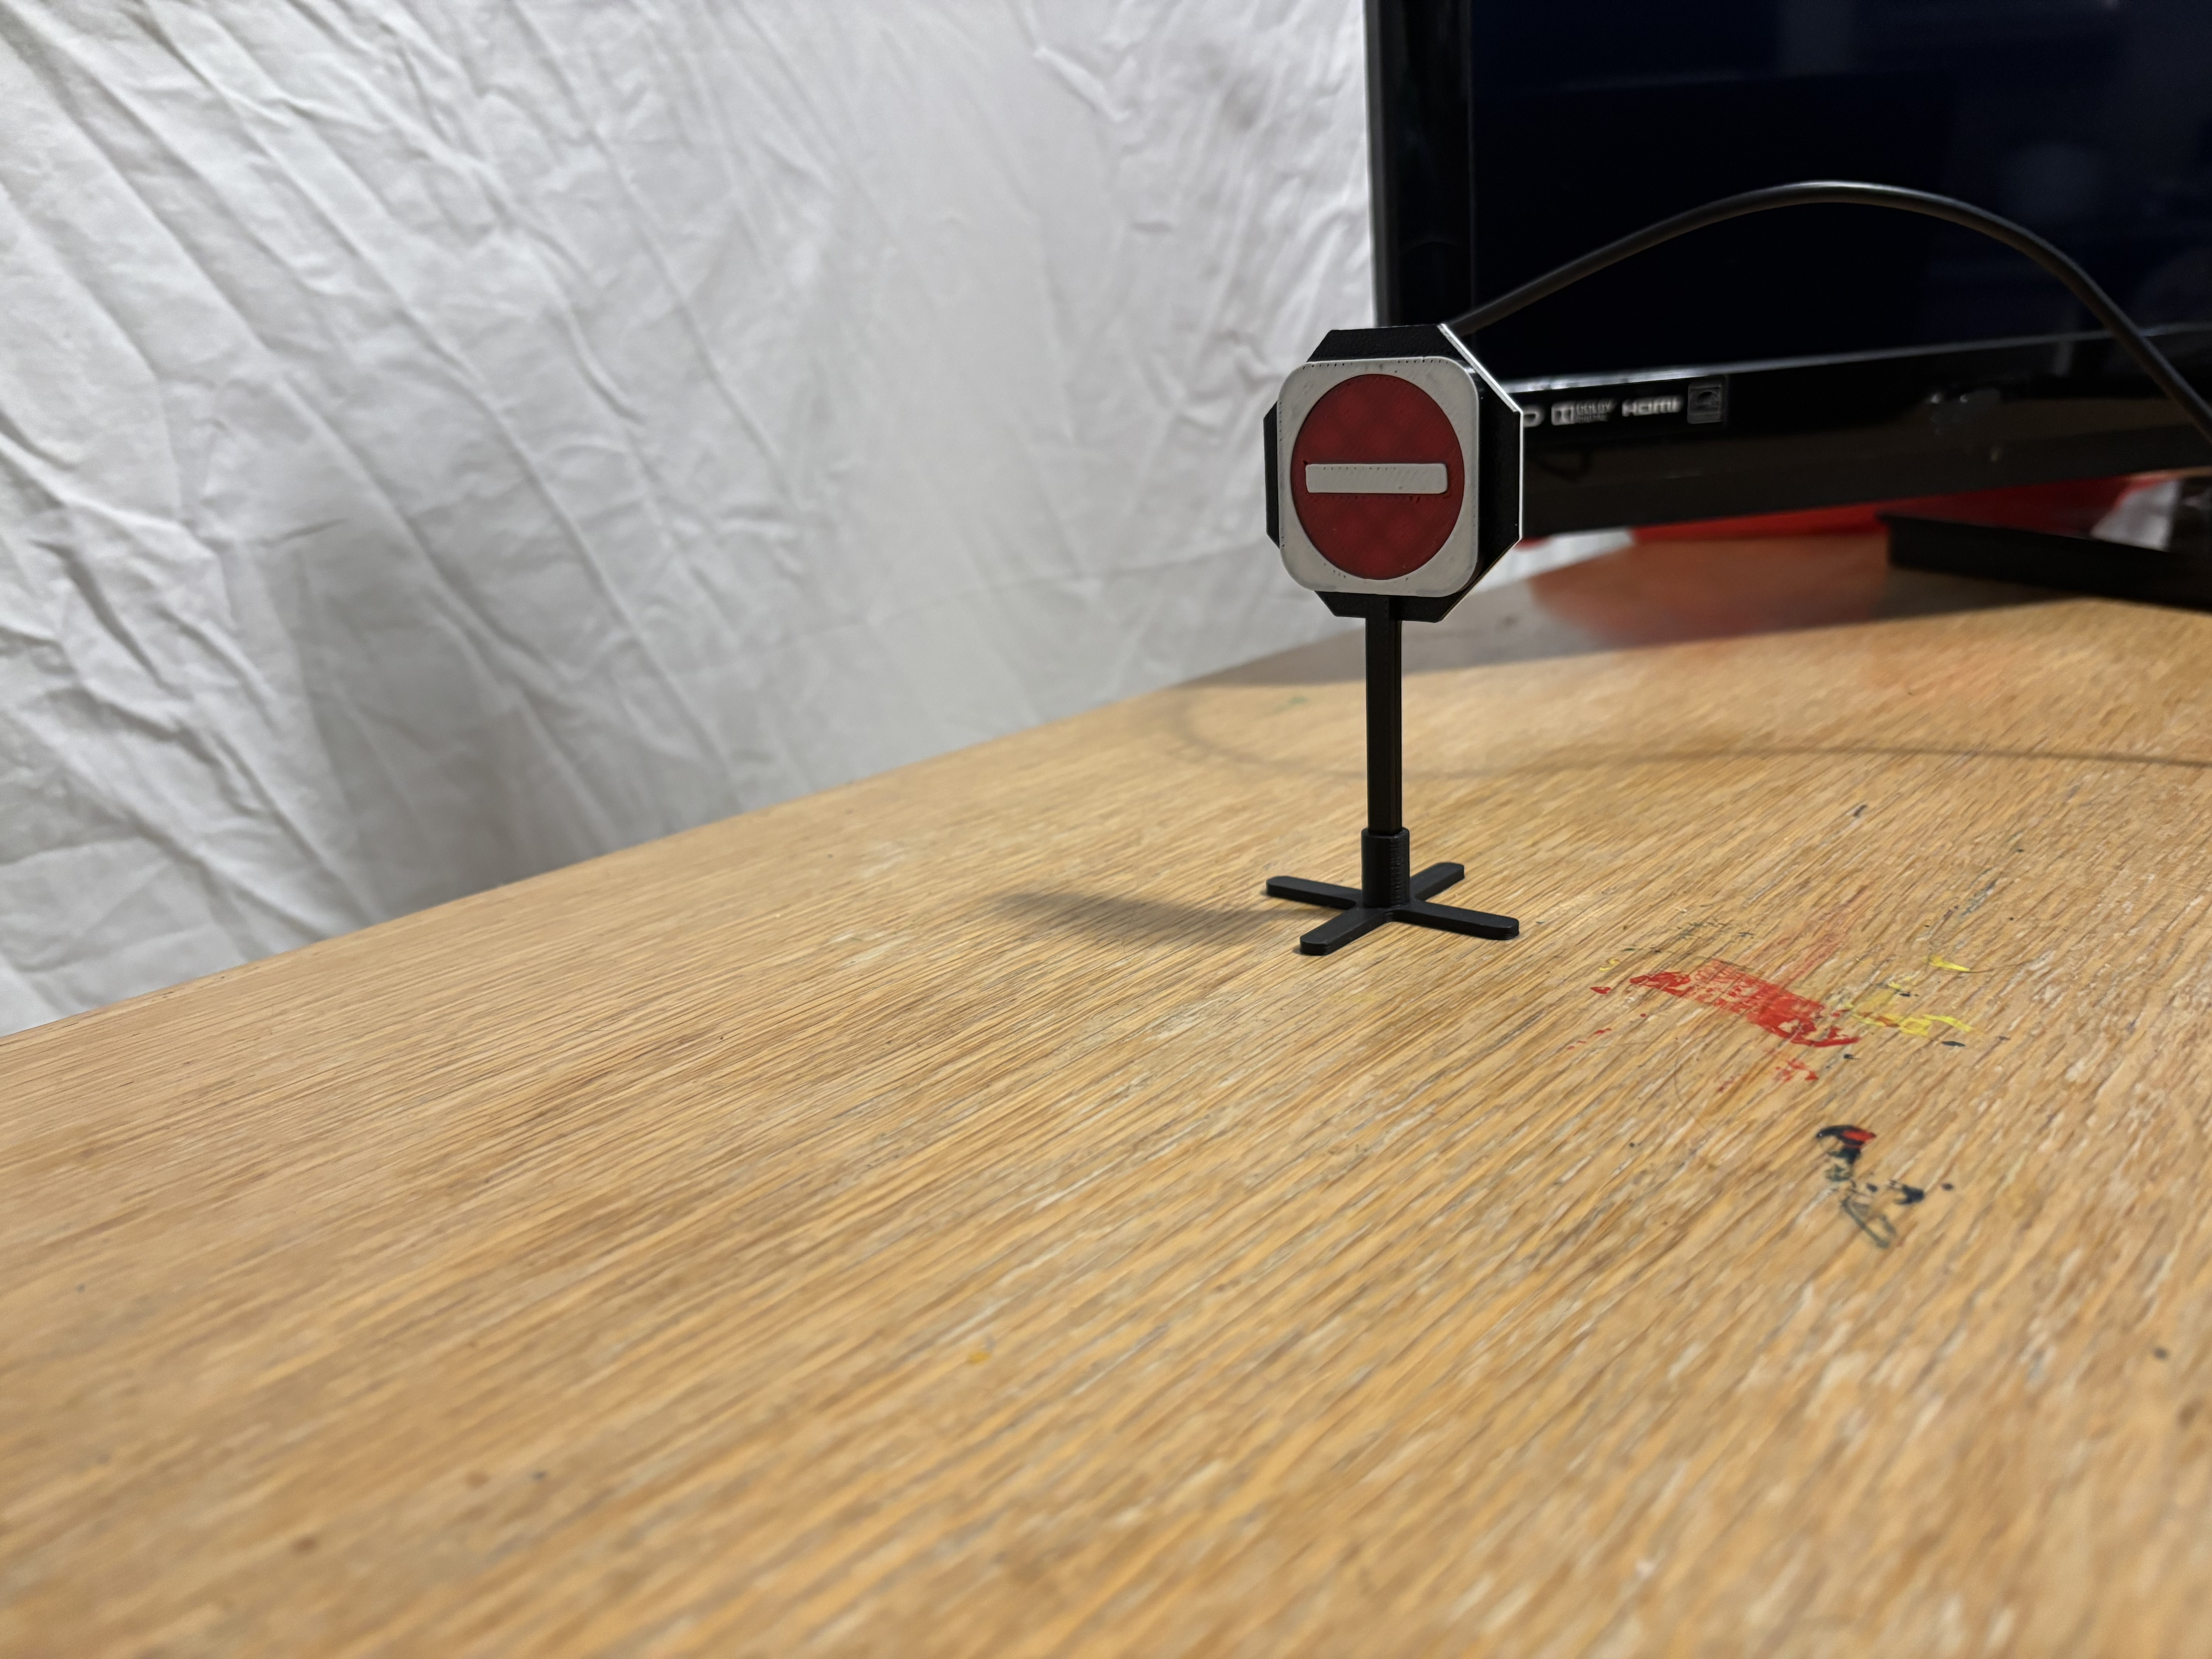sign_noentry: (1256, 359, 1489, 591)
